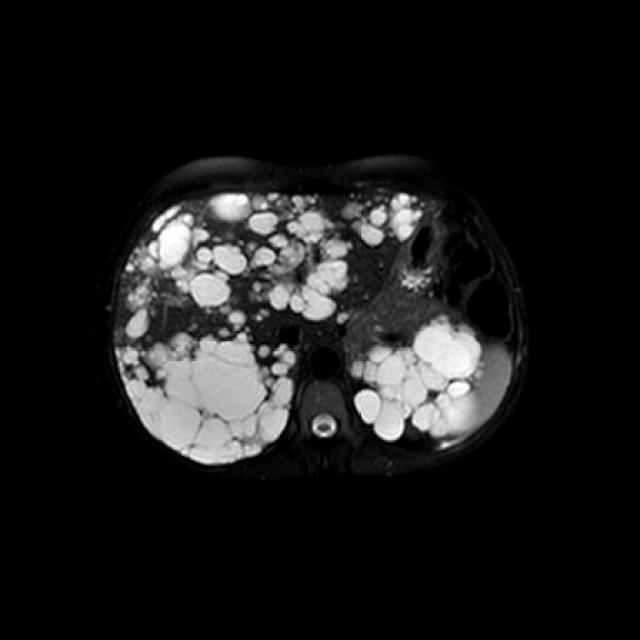sol: (350, 314, 486, 440)
